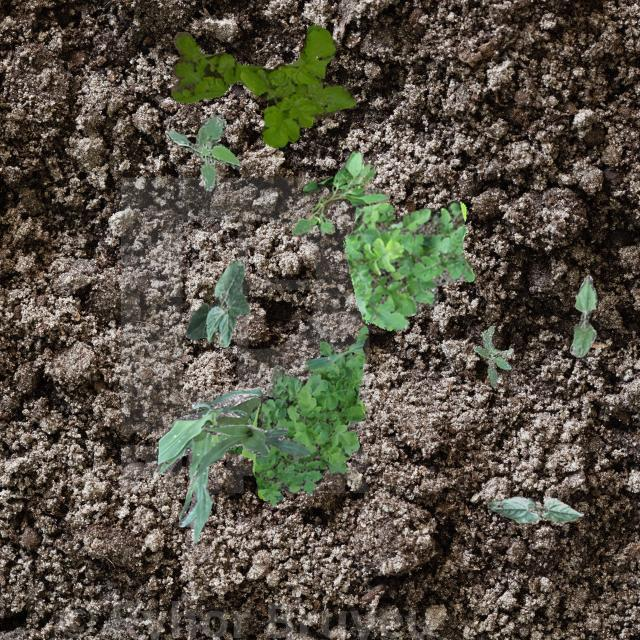crop: (156, 386, 262, 540), (178, 424, 310, 518), (215, 364, 358, 424), (184, 260, 248, 346), (487, 496, 582, 522), (568, 274, 596, 356)
weed: (216, 324, 366, 503), (170, 23, 354, 146), (342, 186, 474, 330), (292, 150, 388, 236), (163, 114, 240, 190), (472, 324, 512, 386)
